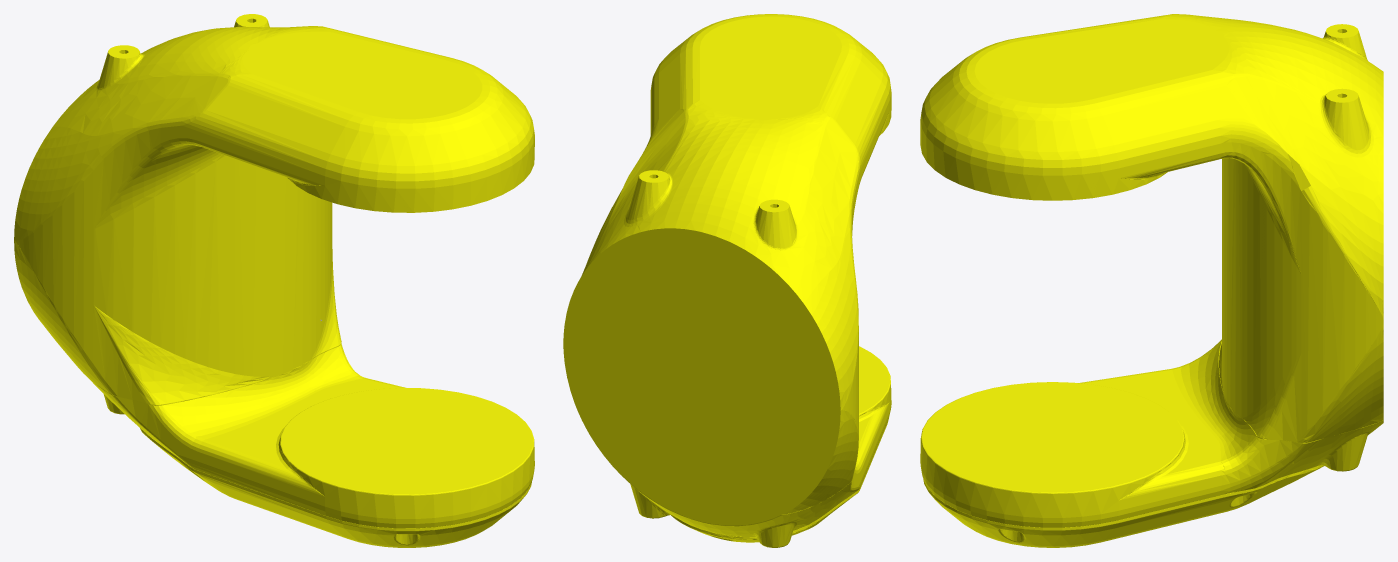
The picture shows the model from 3 angles, left to right: view 1: azimuth 30°, elevation 25°; view 2: azimuth 150°, elevation 25°; view 3: azimuth 270°, elevation 25°; orthographic projection. The views are drawn at different scales.
Parts seen in each view (by area): view 1: node; view 2: node; view 3: node.
Part boxes in pixels (left/top/right/bottom): node: left=14, top=14, right=534, bottom=547; node: left=563, top=14, right=891, bottom=547; node: left=920, top=14, right=1383, bottom=547.
Bounding box in the file's own units: 199 × 235 × 224.
